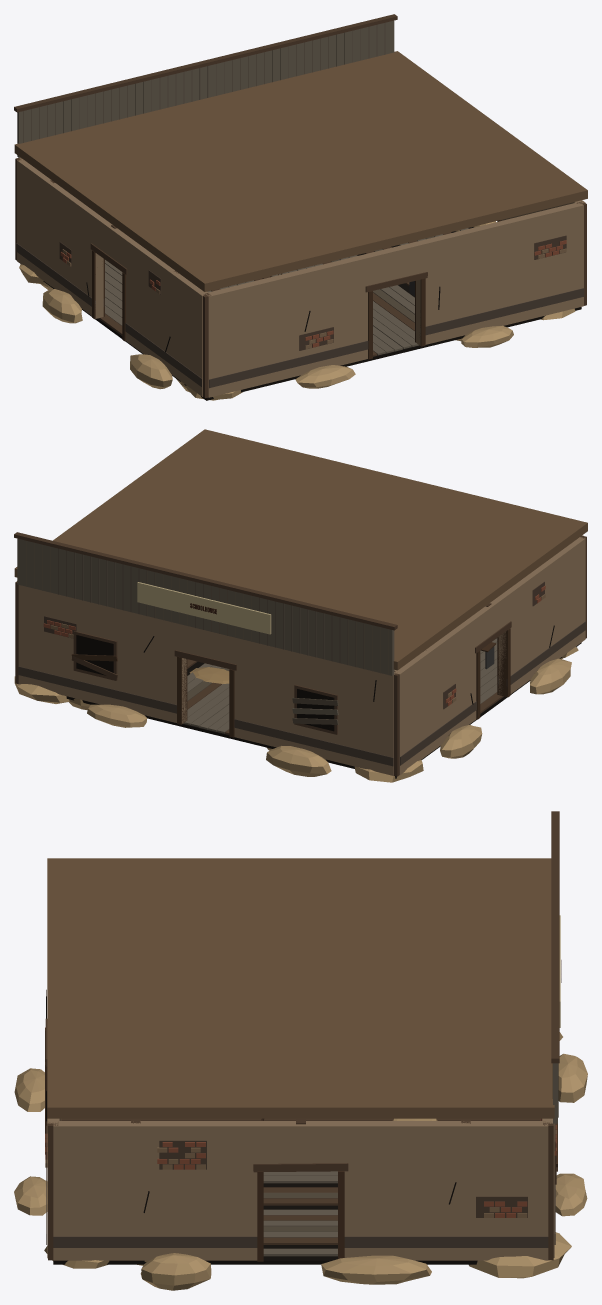
Rendered from TownBldg_school.glb.
The picture shows the model from 3 angles, top to bottom: view 1: azimuth 30°, elevation 25°; view 2: azimuth 150°, elevation 25°; view 3: azimuth 270°, elevation 25°; orthographic projection. The views are drawn at different scales.
Parts seen in each view (by area): view 1: TownBldg_school.001; view 2: TownBldg_school.001; view 3: TownBldg_school.001.
Boxes of the visible parts, left/top/right/bottom form: TownBldg_school.001: left=14, top=14, right=587, bottom=400; TownBldg_school.001: left=14, top=429, right=587, bottom=782; TownBldg_school.001: left=14, top=811, right=587, bottom=1290.
Bounding box in the file's own units: 15.92 × 5.99 × 13.91.
